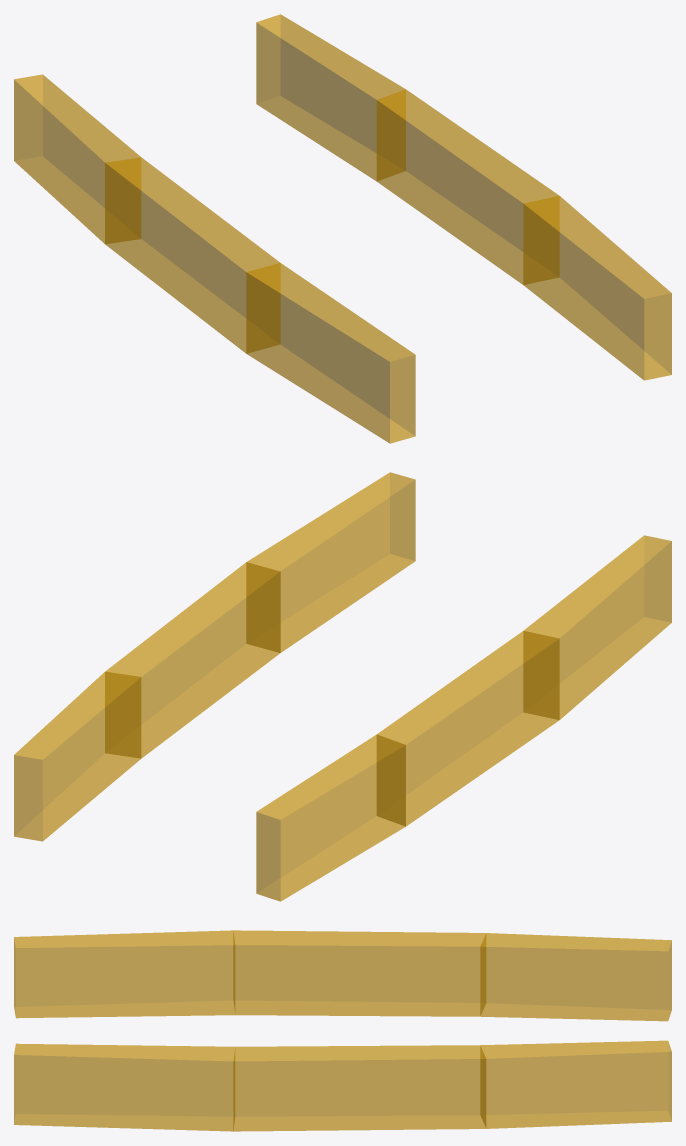
Rendered from SM_Veh_Ship_M_Middle_01_Collision.fbx.
3 views of the same model, one above another, from view 1: azimuth 30°, elevation 25°; view 2: azimuth 150°, elevation 25°; view 3: azimuth 270°, elevation 25° (orthographic). The views are drawn at different scales.
Visible parts, largest first — view 1: SM_Veh_Ship_M_Middle_01_Collision; view 2: SM_Veh_Ship_M_Middle_01_Collision; view 3: SM_Veh_Ship_M_Middle_01_Collision.
Boxes of the visible parts, x1,y1,x2,y2 form: SM_Veh_Ship_M_Middle_01_Collision: [14, 14, 671, 443]; SM_Veh_Ship_M_Middle_01_Collision: [14, 472, 671, 901]; SM_Veh_Ship_M_Middle_01_Collision: [14, 930, 671, 1131].
Size of the model in its own units: 763 by 190 by 1619.
